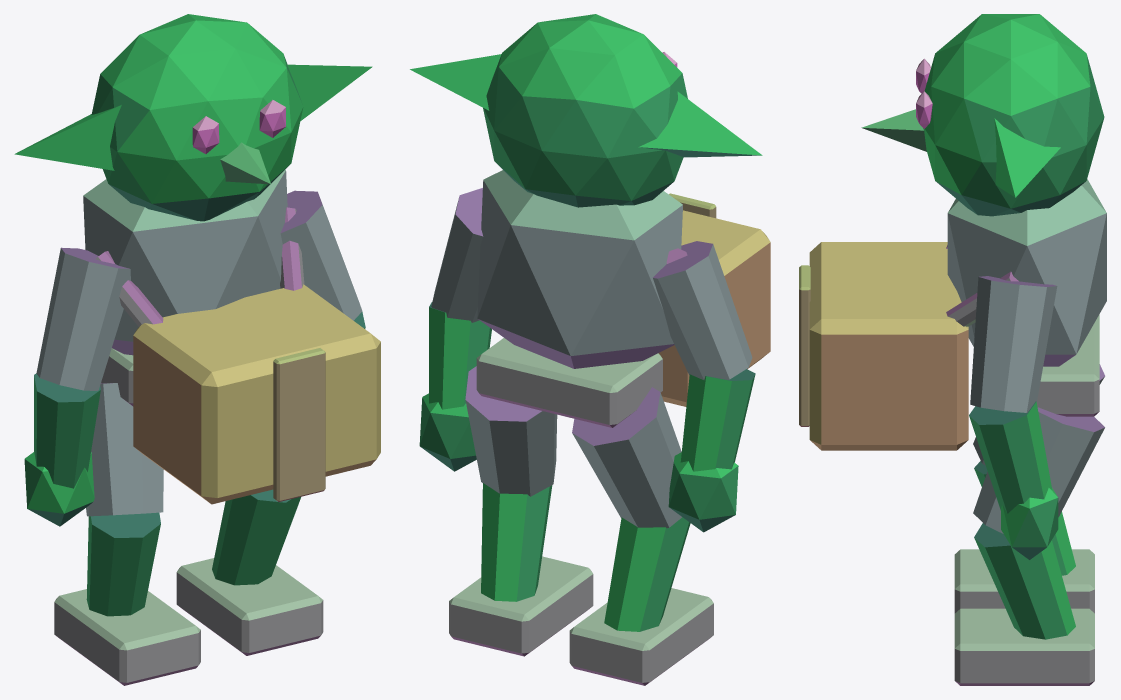
File: creature_goblin_tribute_bearer_contact_a_v01.glb
3 renders of one model, left to right at view 1: azimuth 30°, elevation 25°; view 2: azimuth 150°, elevation 25°; view 3: azimuth 270°, elevation 25°, orthographic.
Parts seen in each view (by area): view 1: GEO_creature_goblin_tribute_bearer_contact_a_v01; view 2: GEO_creature_goblin_tribute_bearer_contact_a_v01; view 3: GEO_creature_goblin_tribute_bearer_contact_a_v01.
Part boxes in pixels (x1,y1,x2,y2): GEO_creature_goblin_tribute_bearer_contact_a_v01: (14,14,380,685); GEO_creature_goblin_tribute_bearer_contact_a_v01: (410,14,770,685); GEO_creature_goblin_tribute_bearer_contact_a_v01: (799,14,1106,685).
Size of the model in its own units: 0.88 by 1.46 by 0.6576.
